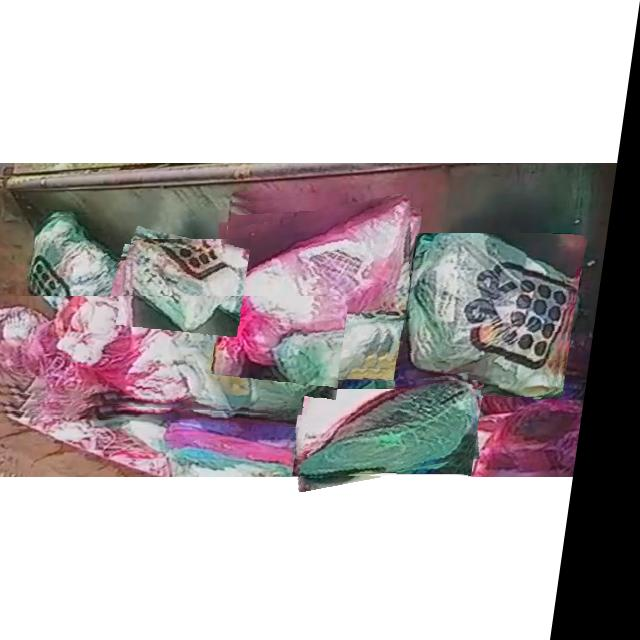general_trashbag: (0, 297, 352, 416), (416, 234, 582, 398), (314, 381, 488, 477), (138, 239, 252, 340), (37, 215, 143, 310)
other_trashbag: (221, 194, 415, 390)
